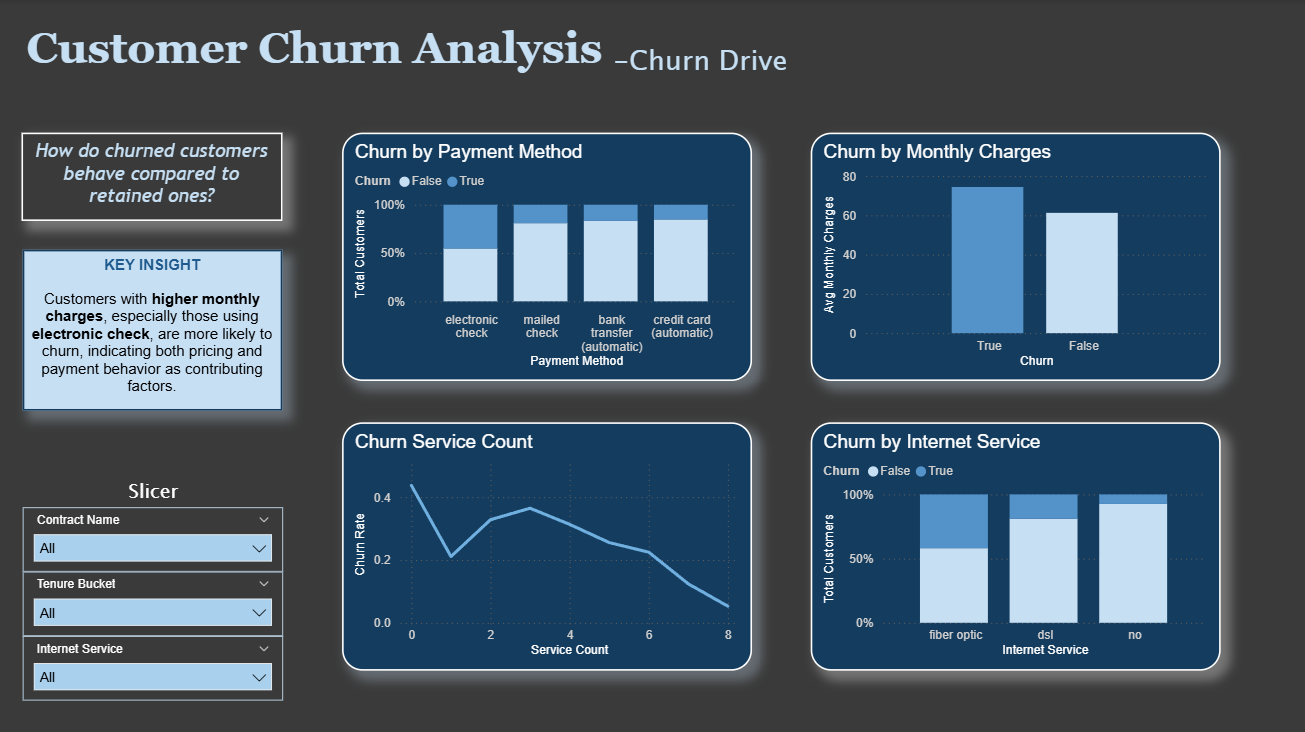

This screenshot's page, from the dashboard's own definition file:
{"tool":"powerbi","page":{"name":"Churn Drive","canvas":[1280,720],"ordinal":2},"visuals":[{"type":"hundredPercentStackedColumnChart","title":"Churn by Payment Method","fields":{"Category":["public churn_dashboard_dataset.payment_name"],"Series":["public churn_dashboard_dataset.churn"],"Y":["public churn_dashboard_dataset.Total Customers"]},"box":[336.4,128.8,400,242.4],"z":0},{"type":"lineChart","title":"Churn Service Count","fields":{"Category":["public churn_dashboard_dataset.service_count"],"Y":["public churn_dashboard_dataset.Churn Rate"]},"box":[336.4,412.1,400,242.4],"z":1000},{"type":"hundredPercentStackedColumnChart","title":"Churn by Internet Service","fields":{"Category":["public churn_dashboard_dataset.internet_service"],"Series":["public churn_dashboard_dataset.churn"],"Y":["public churn_dashboard_dataset.Total Customers"]},"box":[793.9,412.1,400,242.4],"z":2000},{"type":"clusteredColumnChart","title":"Churn by Monthly Charges","fields":{"Category":["public churn_dashboard_dataset.churn"],"Y":["public churn_dashboard_dataset.Avg Monthly Charges"]},"box":[793.9,128.8,400,242.4],"z":3000},{"type":"textbox","box":[24.2,18.2,850,78.8],"z":4000},{"type":"textbox","box":[24.2,128.8,254.5,86.4],"z":5000},{"type":"textbox","box":[24.7,244.2,253.2,157.1],"z":6000},{"type":"textbox","box":[25.1,460.6,255,42.7],"z":7000},{"type":"slicer","title":"Risk Level","fields":{"Values":["public churn_dashboard_dataset.contract_name"]},"box":[25.1,494.5,253.7,62.7],"z":8000},{"type":"slicer","title":"Risk Level","fields":{"Values":["public churn_dashboard_dataset.tenure_bucket"]},"box":[25.1,557.7,253.7,62.8],"z":9000},{"type":"slicer","title":"Risk Level","fields":{"Values":["public churn_dashboard_dataset.internet_service"]},"box":[25.1,620.5,253.7,62.8],"z":10000}]}

Visuals, with their boxes in screenshot pixels (x1, y1, x2, y2), scaled from the page's 1280x720 canvas onto the 1305x732 screenshot:
"Churn by Payment Method" hundredPercentStackedColumnChart: 343/131/751/377
"Churn Service Count" lineChart: 343/419/751/665
"Churn by Internet Service" hundredPercentStackedColumnChart: 809/419/1217/665
"Churn by Monthly Charges" clusteredColumnChart: 809/131/1217/377
textbox: 25/19/891/99
textbox: 25/131/284/219
textbox: 25/248/283/408
textbox: 26/468/286/512
"Risk Level" slicer: 26/503/284/566
"Risk Level" slicer: 26/567/284/631
"Risk Level" slicer: 26/631/284/695
